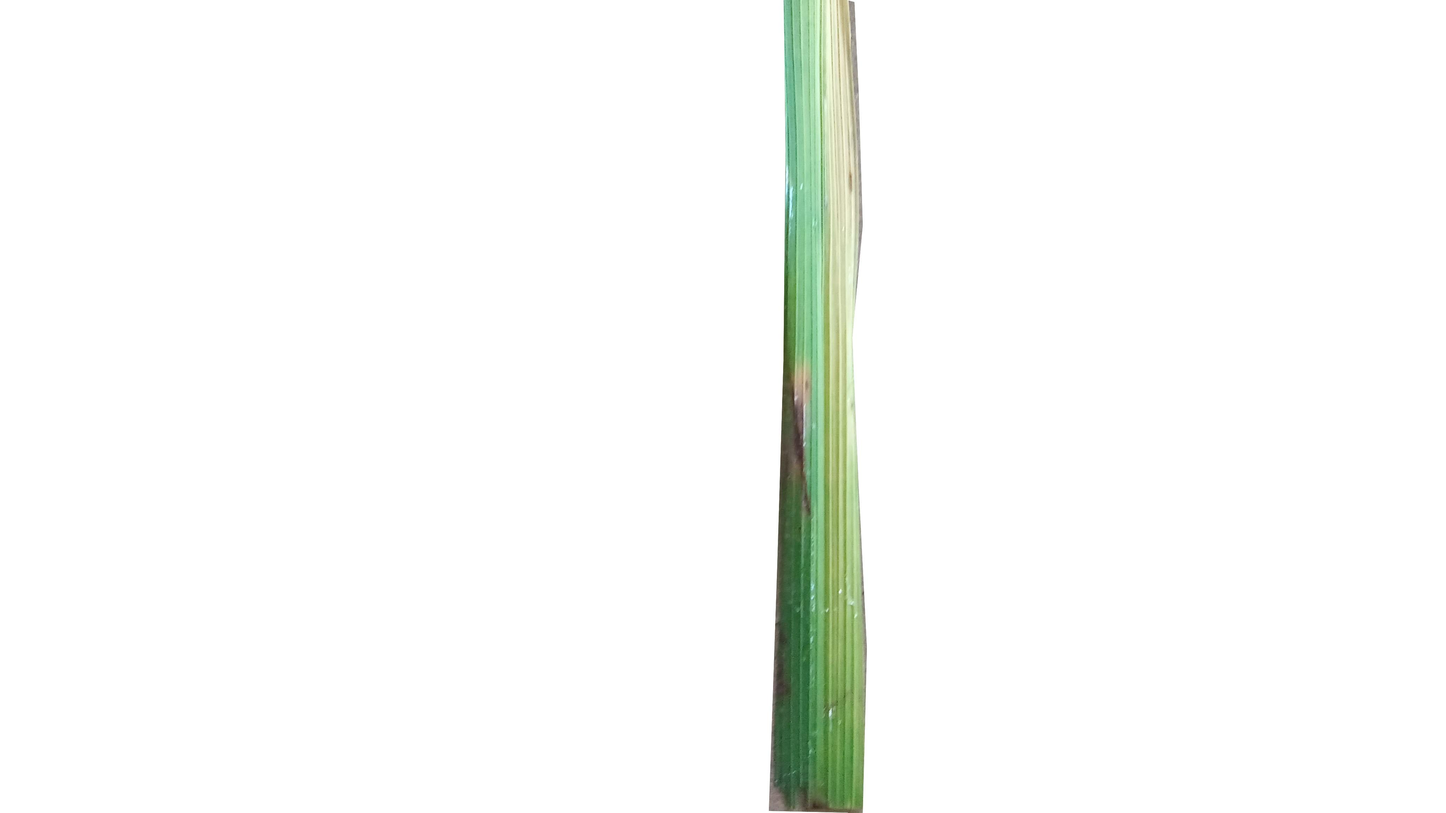Rice blast: (775, 353, 826, 493)
